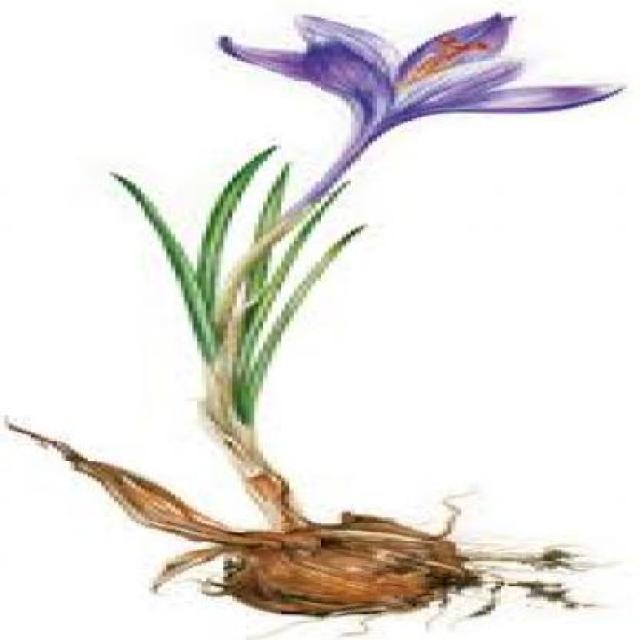saffron open: (219, 14, 622, 209)
